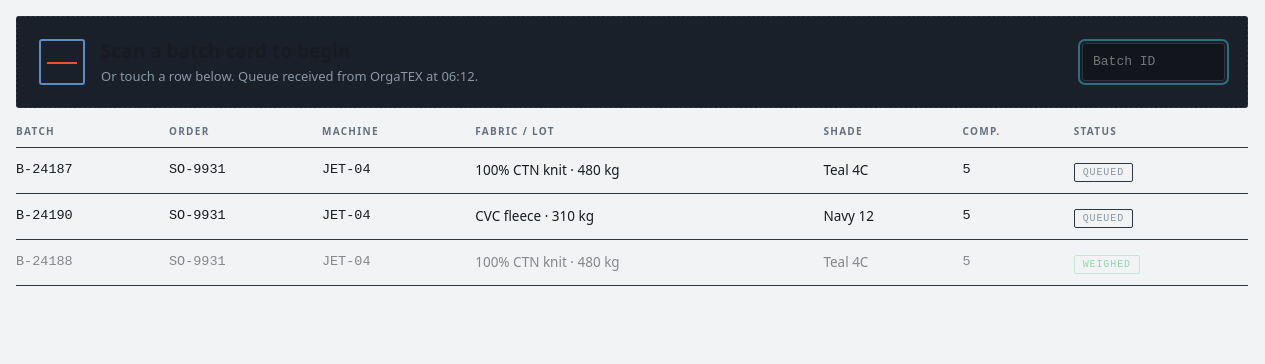
it: BatchQueueScreen › accepts a keyboard-wedge scan and explains an unknown code
Expected: the text "B-24187" is shown, [16,148,169,194]
Step 1. Type "B-99999" into the field named "Scan or type a batch ID" → [1154, 62], box [1082,43,1225,81]
Then press Enter
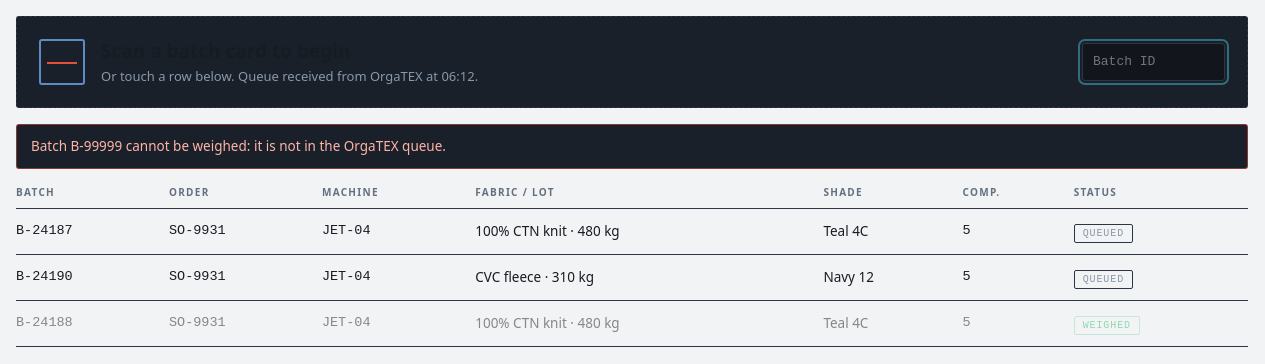
Expected: the text "Batch B-99999 cannot be weighed: it is not in the OrgaTEX queue." is shown, [16,124,1248,168]
